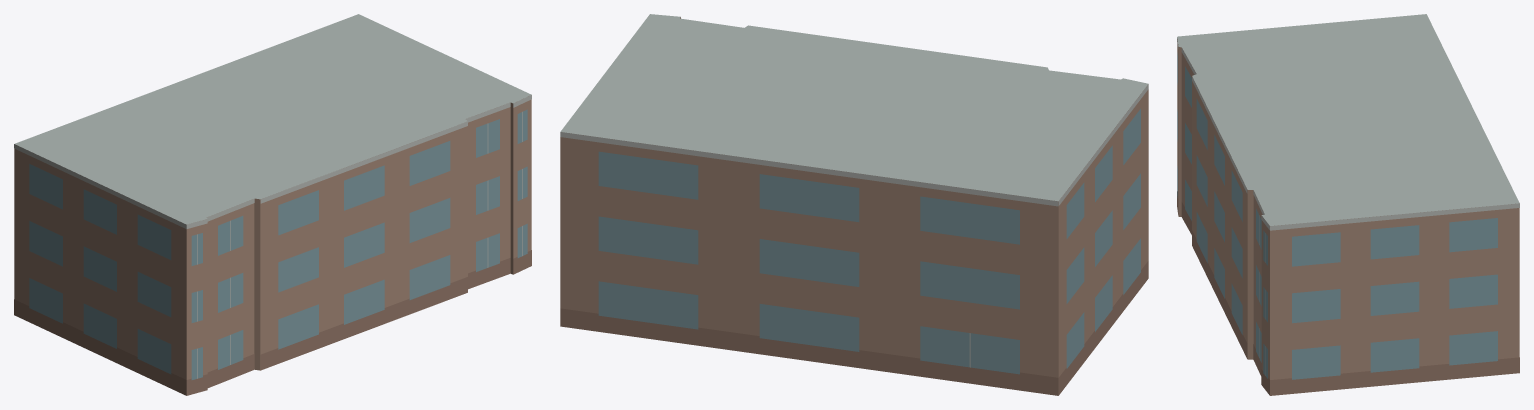
File: survey-upis-32521150.glb
3 renders of one model, left to right at view 1: azimuth 30°, elevation 25°; view 2: azimuth 150°, elevation 25°; view 3: azimuth 270°, elevation 25°, orthographic. The views are drawn at different scales.
Visible parts, largest first — view 1: survey-upis-32521150.tmp; view 2: survey-upis-32521150.tmp; view 3: survey-upis-32521150.tmp.
Boxes of the visible parts, <box> form: survey-upis-32521150.tmp: <box>14,14,531,395</box>; survey-upis-32521150.tmp: <box>560,14,1148,395</box>; survey-upis-32521150.tmp: <box>1177,14,1519,395</box>.
Size of the model in its own units: 24.53 by 9.15 by 16.75.
